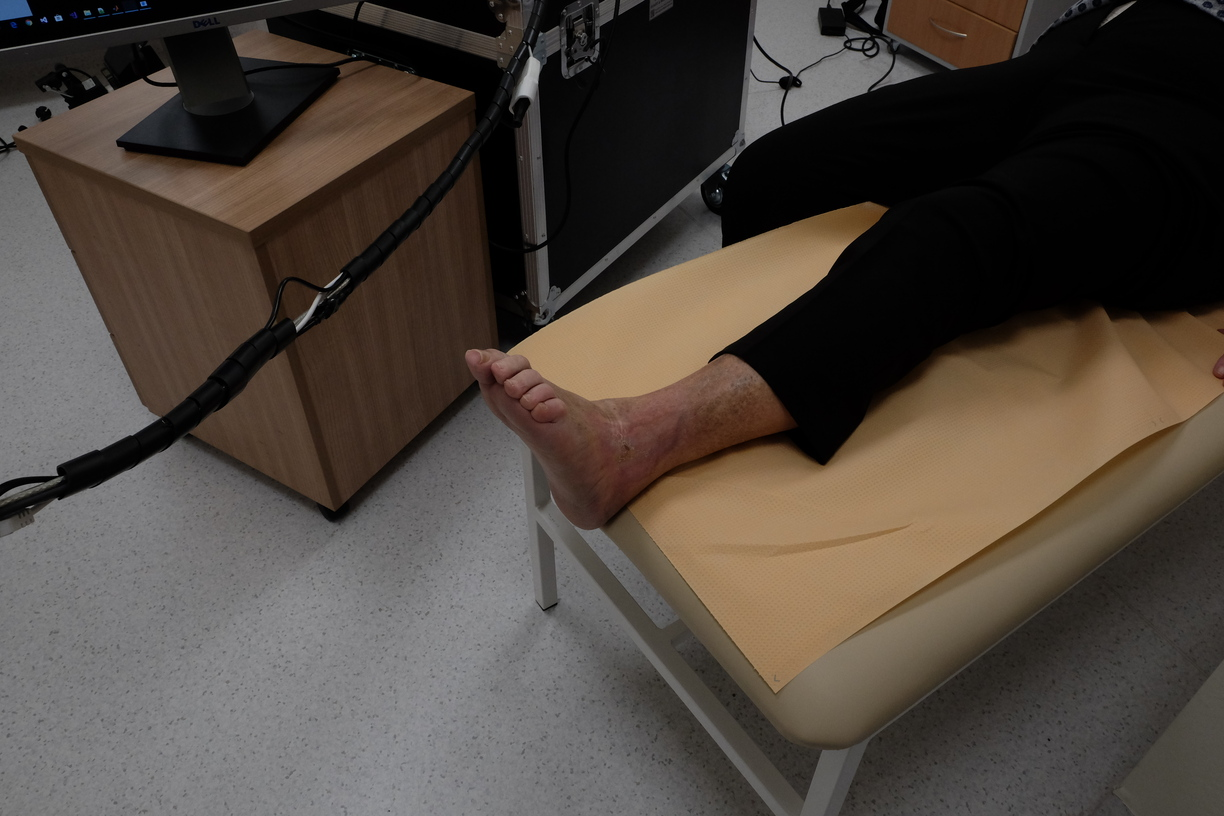wound: (618, 436, 638, 461)
